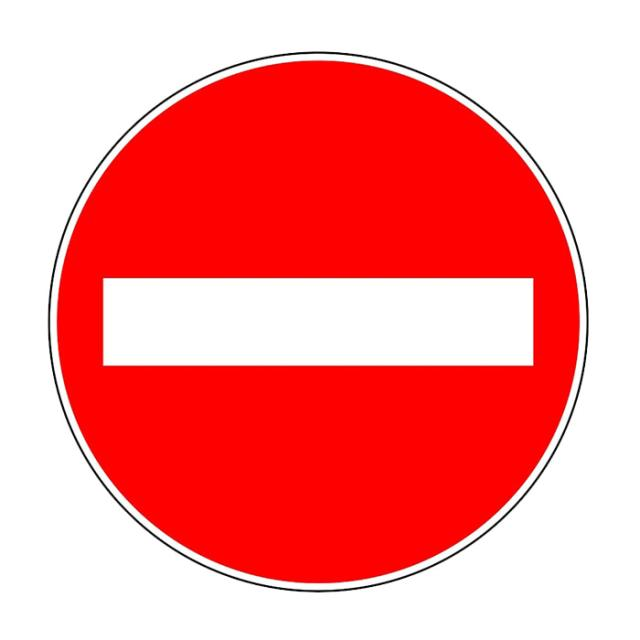Sens-Interdit: (45, 48, 591, 595)
